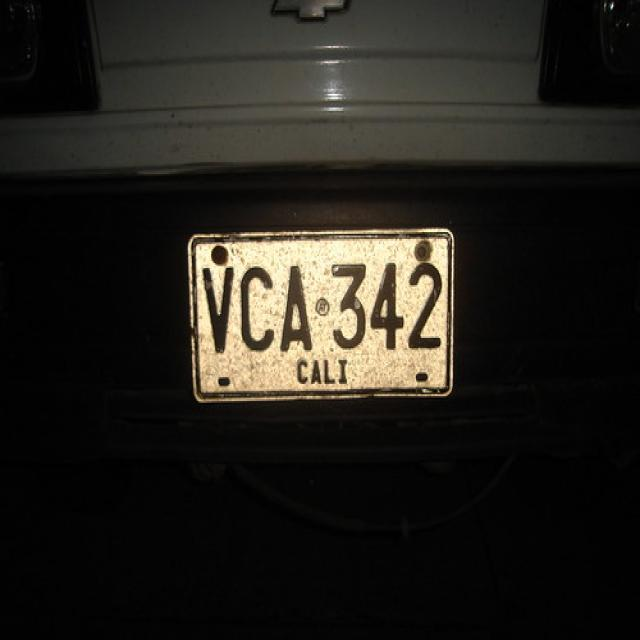placas: (197, 255, 447, 362)
